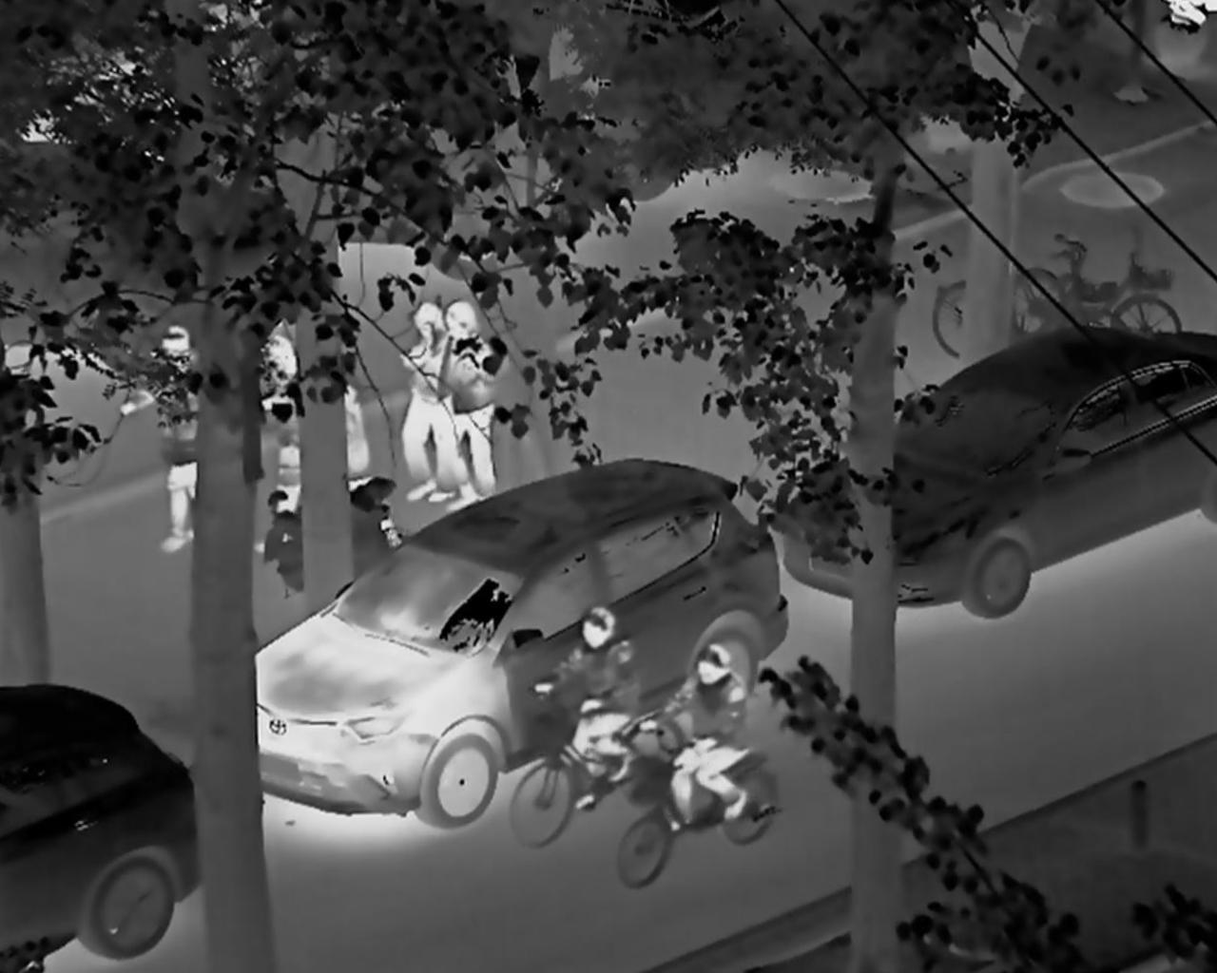person: (124, 320, 226, 567), (666, 641, 759, 850), (551, 601, 640, 800), (393, 298, 467, 513), (253, 332, 310, 558), (445, 295, 500, 507)
